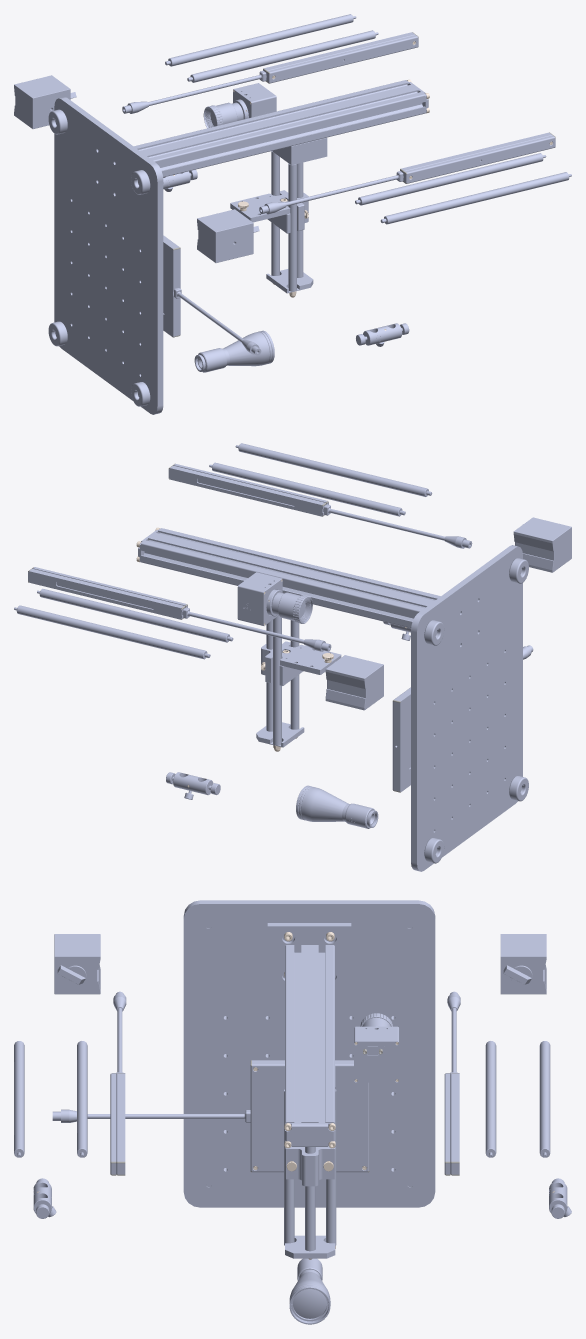
The model's file is MachineVisionPlaform.FBX.
3 views of the same model, one above another, from view 1: azimuth 30°, elevation 25°; view 2: azimuth 150°, elevation 25°; view 3: azimuth 270°, elevation 25° (orthographic). The views are drawn at different scales.
Parts seen in each view (by area): view 1: 底板-1-solid1, 立柱-1/立柱-1-solid1, M6 螺纹孔002, 支架-1-solid002, 支架-1-solid1, M6 螺纹孔1, 倒角004, 倒角006, 倒角3, 倒角005, 镜筒-1-solid1, GCM-030105M支杆（203）-2-solid1 (+16 smaller); view 2: 底板-1-solid1, 立柱-1/立柱-1-solid1, M6 螺纹孔1, M6 螺纹孔002, 倒角3, 倒角004, 倒角005, 倒角006, 镜筒-1-solid1, 上盖-1-solid1, 上盖-1-solid002, 相机台-1-solid1 (+14 smaller); view 3: 底板-1-solid1, 立柱-1/立柱-1-solid1, 外壳-1-solid003, 立柱-1/底座-1-solid1, M6 螺纹孔1, M6 螺纹孔002, 后板-1-solid1, 动块-1-solid1, 倒角004, 倒角006, 倒角005, 倒角3 (+14 smaller).
Boxes of the visible parts, left/top/right/bottom form: 底板-1-solid1: left=54, top=97, right=163, bottom=414; 立柱-1/立柱-1-solid1: left=134, top=80, right=425, bottom=177; M6 螺纹孔002: left=197, top=209, right=259, bottom=262; 支架-1-solid002: left=266, top=35, right=418, bottom=83; 支架-1-solid1: left=403, top=135, right=555, bottom=183; M6 螺纹孔1: left=14, top=75, right=76, bottom=128; 倒角004: left=187, top=30, right=378, bottom=82; 倒角006: left=165, top=14, right=356, bottom=66; 倒角3: left=355, top=153, right=546, bottom=205; 倒角005: left=380, top=172, right=571, bottom=224; 镜筒-1-solid1: left=197, top=330, right=274, bottom=369; GCM-030105M支杆（203）-2-solid1: left=288, top=163, right=296, bottom=291; 底板-1-solid1: left=411, top=545, right=522, bottom=871; 立柱-1/立柱-1-solid1: left=141, top=528, right=440, bottom=628; M6 螺纹孔1: left=325, top=655, right=383, bottom=710; M6 螺纹孔002: left=513, top=517, right=571, bottom=572; 倒角3: left=209, top=462, right=405, bottom=516; 倒角004: left=37, top=588, right=233, bottom=642; 倒角005: left=235, top=443, right=432, bottom=496; 倒角006: left=14, top=605, right=210, bottom=659; 镜筒-1-solid1: left=296, top=785, right=374, bottom=825; 上盖-1-solid1: left=169, top=469, right=322, bottom=515; 上盖-1-solid002: left=28, top=572, right=182, bottom=618; 相机台-1-solid1: left=280, top=644, right=341, bottom=674; 底板-1-solid1: left=183, top=900, right=435, bottom=1207; 立柱-1/立柱-1-solid1: left=285, top=945, right=334, bottom=1123; 外壳-1-solid003: left=250, top=1060, right=369, bottom=1172; 立柱-1/底座-1-solid1: left=267, top=923, right=351, bottom=987; M6 螺纹孔1: left=500, top=934, right=546, bottom=994; M6 螺纹孔002: left=54, top=934, right=100, bottom=994; 后板-1-solid1: left=354, top=1040, right=399, bottom=1082; 动块-1-solid1: left=285, top=1146, right=335, bottom=1186; 倒角004: left=485, top=1041, right=496, bottom=1157; 倒角006: left=539, top=1041, right=550, bottom=1157; 倒角005: left=14, top=1041, right=24, bottom=1157; 倒角3: left=77, top=1041, right=87, bottom=1157.
Size of the model in its own units: 637 by 433 by 666.
